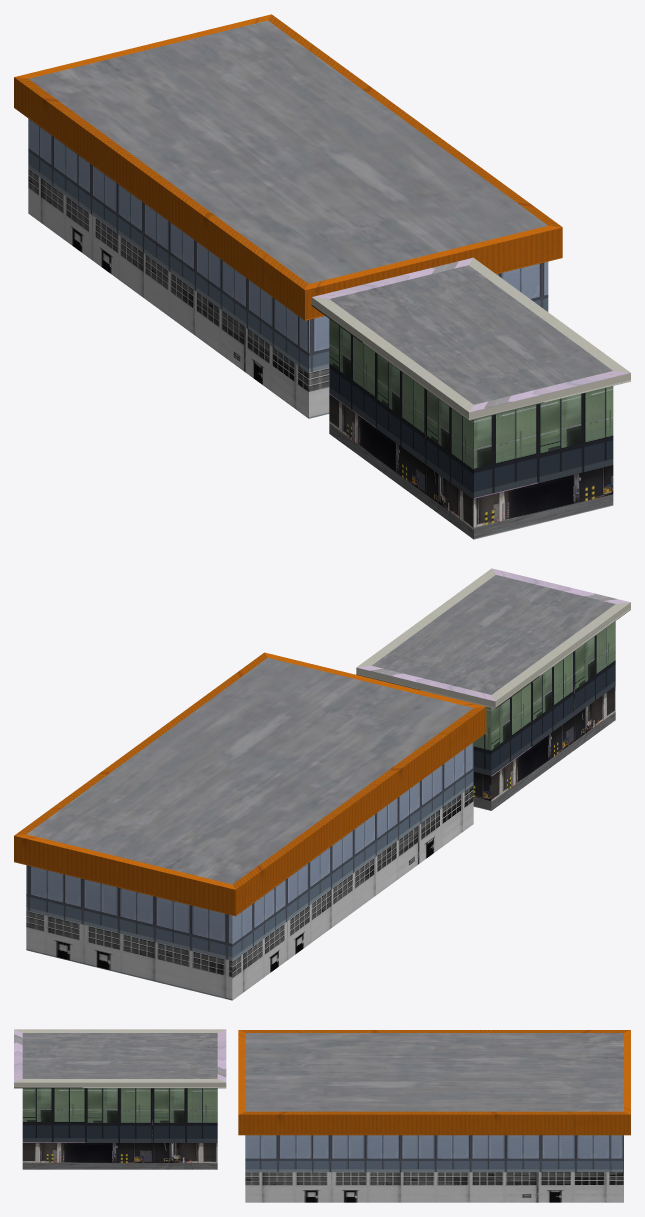
The model's file is new_building.fbx.
3 renders of one model, top to bottom at view 1: azimuth 30°, elevation 25°; view 2: azimuth 150°, elevation 25°; view 3: azimuth 270°, elevation 25°, orthographic. The views are drawn at different scales.
Parts seen in each view (by area): view 1: pCube1, pCube2; view 2: pCube1, pCube2; view 3: pCube1, pCube2.
Part boxes in pixels (bbox=[...]): pCube1: bbox=[14, 14, 562, 418]; pCube2: bbox=[311, 257, 630, 539]; pCube1: bbox=[14, 652, 486, 1000]; pCube2: bbox=[356, 568, 630, 810]; pCube1: bbox=[238, 1030, 630, 1202]; pCube2: bbox=[14, 1029, 226, 1169].
Bounding box in the file's own units: 2060 × 1021 × 6278.
1 material, 1 textured.
